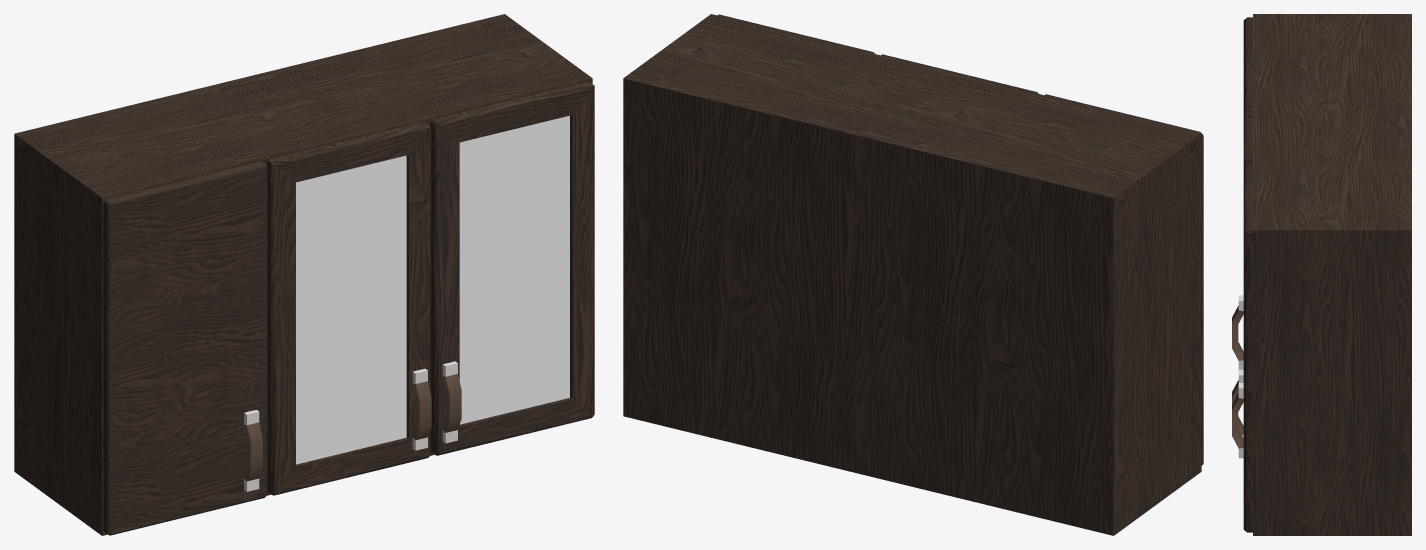
Rendered from kitchen_020.fbx.
3 views of the same model, side by side, from view 1: azimuth 30°, elevation 25°; view 2: azimuth 150°, elevation 25°; view 3: azimuth 270°, elevation 25° (orthographic). The views are drawn at different scales.
Visible parts, largest first — view 1: kitchen_020; view 2: kitchen_020; view 3: kitchen_020.
Part boxes in pixels (bbox=[...]): kitchen_020: bbox=[14, 14, 594, 535]; kitchen_020: bbox=[623, 14, 1203, 535]; kitchen_020: bbox=[1232, 14, 1411, 535].
Bounding box in the file's own units: 161 × 56.4 × 106.
